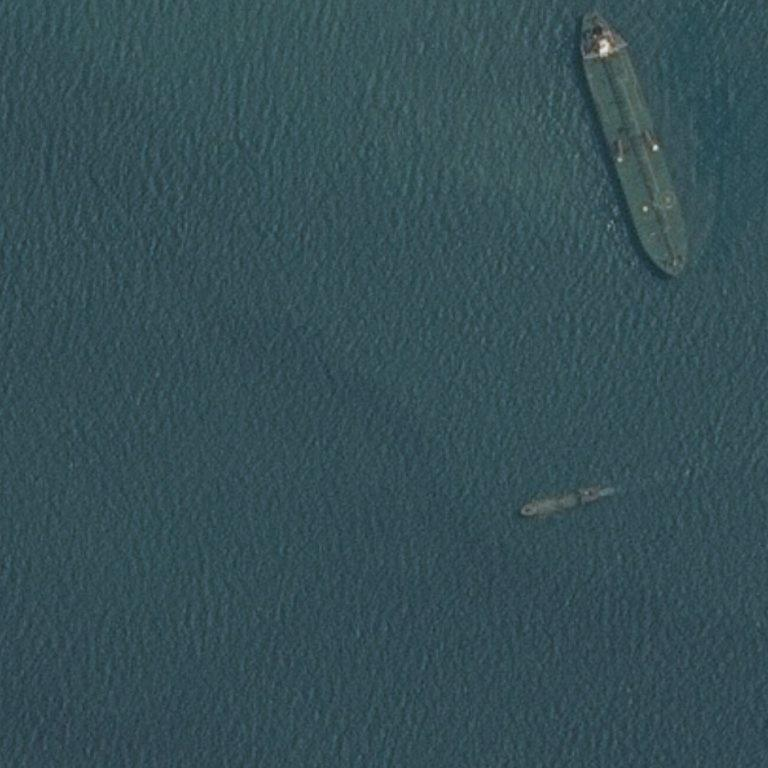ship: (559, 0, 713, 217), (547, 471, 590, 527), (671, 269, 683, 279), (575, 11, 585, 21), (593, 9, 601, 20), (519, 509, 524, 514), (593, 497, 598, 502), (592, 462, 596, 467)
